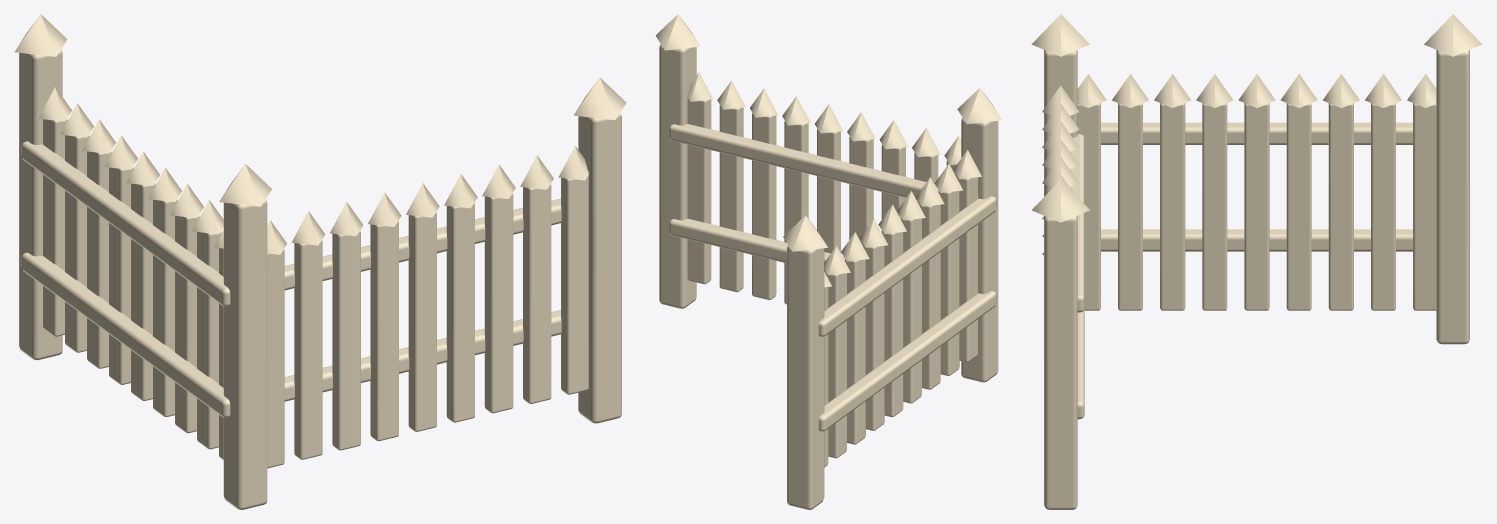
Rendered from almanac-gardens-picket-corner-93346632__22012.glb.
3 views of the same model, side by side, from view 1: azimuth 30°, elevation 25°; view 2: azimuth 150°, elevation 25°; view 3: azimuth 270°, elevation 25° (orthographic). The views are drawn at different scales.
Parts seen in each view (by area): view 1: picket-corner-ivory; view 2: picket-corner-ivory; view 3: picket-corner-ivory.
Boxes of the visible parts, x1,y1,x2,y2 form: picket-corner-ivory: (14, 14, 626, 509); picket-corner-ivory: (655, 14, 1001, 509); picket-corner-ivory: (1031, 14, 1482, 509).
Bounding box in the file's own units: 1.61 × 1.28 × 1.61.
